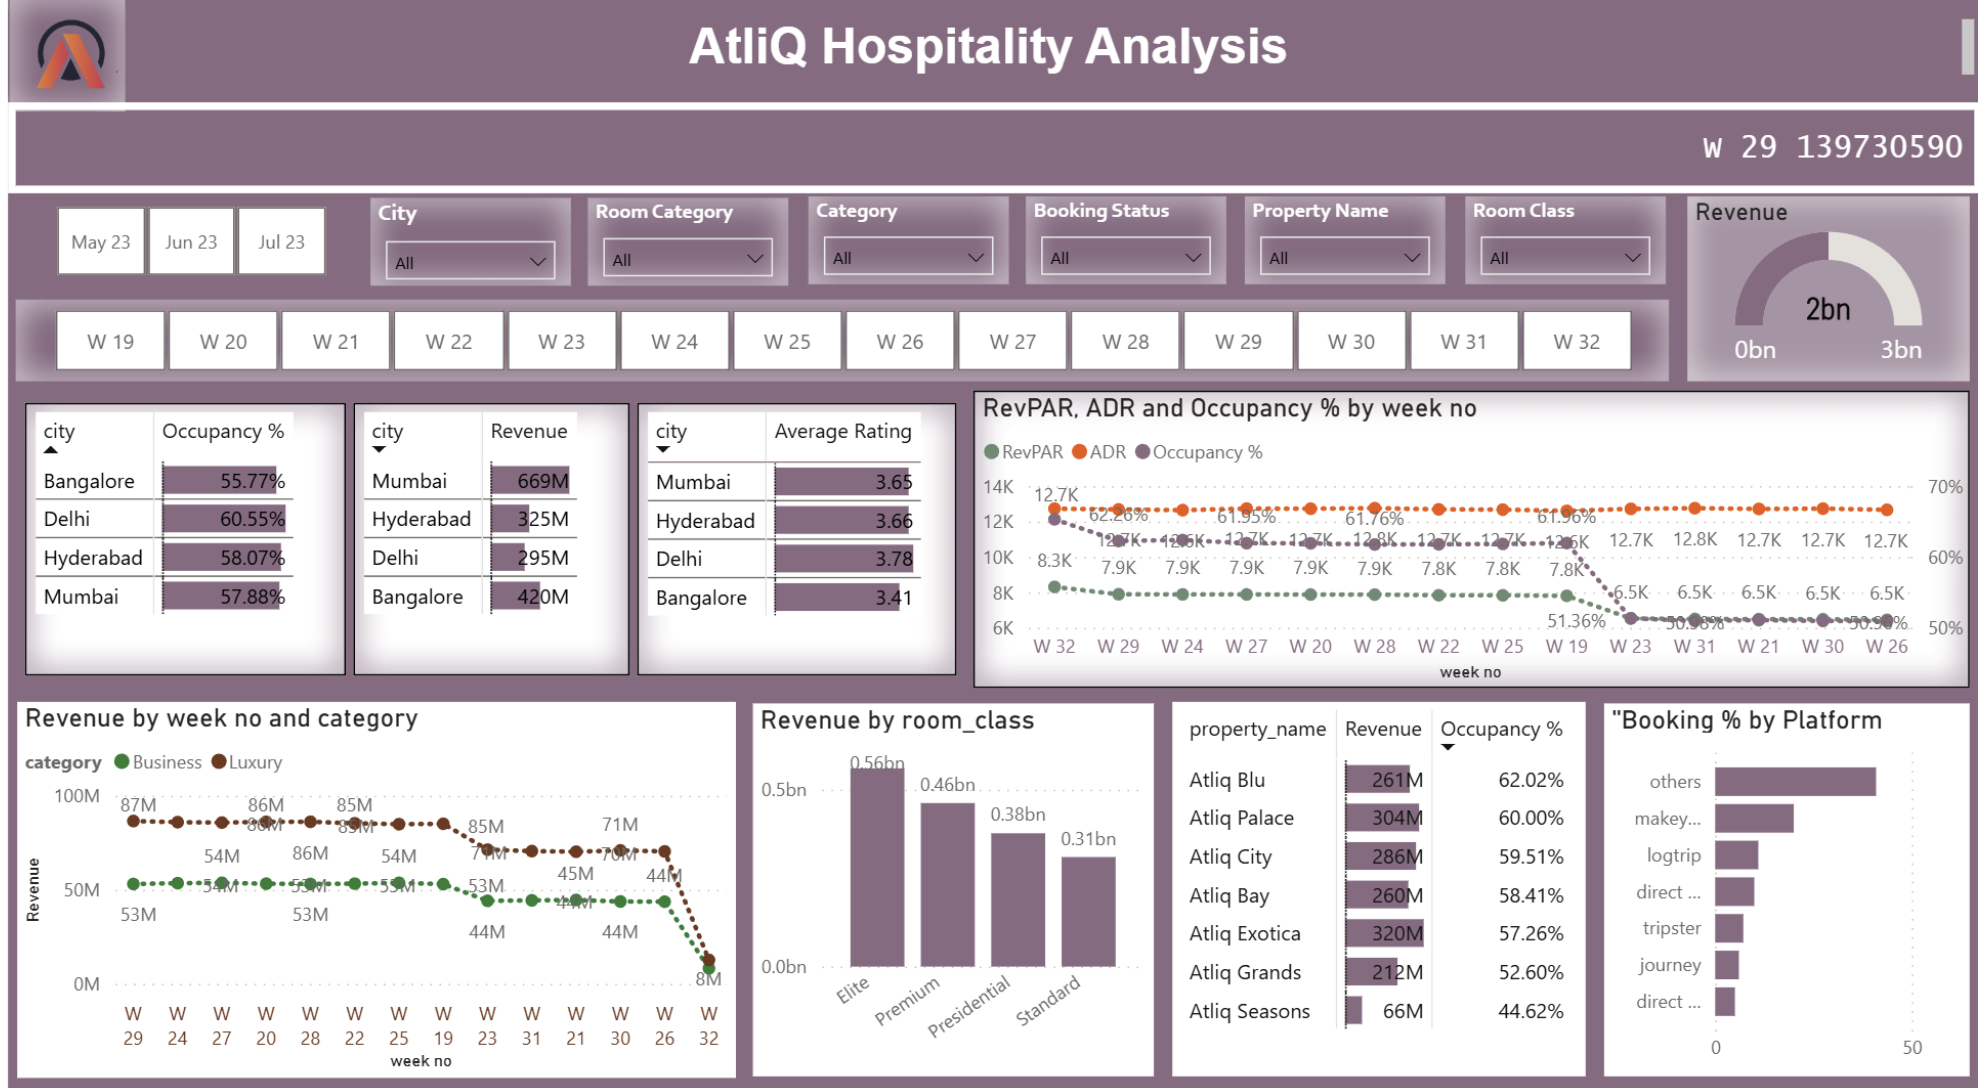

This screenshot's page, from the dashboard's own definition file:
{"tool":"powerbi","page":{"name":"ANALYSIS","canvas":[1280,720],"ordinal":1},"visuals":[{"type":"slicer","title":"Category","fields":{"Values":["dim_hotels.category"]},"box":[518.5,130.3,130,57],"z":0},{"type":"ScrollingTextVisual1448795304508","fields":{"Measure Absolute":["key_measure.Revenue"],"Measure Deviation":["key_measure.RevPAR"],"Category":["dim_date.week no"]},"box":[0,68.7,1279.6,59.1],"z":1000},{"type":"textbox","box":[0,9.8,1280,54],"z":2000},{"type":"clusteredBarChart","title":"\"Booking % by Platform","fields":{"Y":["key_measure.\"Booking % by Platform"],"Category":["fact_bookings.booking_platform"]},"box":[1035.3,459,237.1,242],"z":3000},{"type":"tableEx","fields":{"Values":["dim_hotels.property_name","key_measure.Revenue","key_measure.Occupancy %"]},"box":[755.3,457.8,267.7,243.3],"z":4000},{"type":"columnChart","fields":{"Category":["dim_rooms.room_class"],"Y":["key_measure.Revenue"]},"box":[482.7,459,260.4,242],"z":5000},{"type":"lineChart","fields":{"Category":["dim_date.week no"],"Y":["key_measure.RevPAR","key_measure.ADR"],"Y2":["key_measure.Occupancy %"]},"box":[625.9,255.7,646.4,193],"z":6000},{"type":"tableEx","fields":{"Values":["dim_hotels.city","key_measure.Average Rating"]},"box":[407.6,264.1,207.4,177.3],"z":7000},{"type":"tableEx","fields":{"Values":["dim_hotels.city","key_measure.Occupancy %"]},"box":[10.9,264.1,208.6,177.3],"z":8000},{"type":"tableEx","fields":{"Values":["dim_hotels.city","key_measure.Revenue"]},"box":[223.7,264.1,179.7,177.3],"z":9000},{"type":"slicer","fields":{"Values":["dim_date.mmm yy"]},"box":[6,130.3,224.3,57.9],"z":10000},{"type":"slicer","fields":{"Values":["dim_date.week no"]},"box":[4.8,196.6,1072.2,53.1],"z":11000},{"type":"slicer","title":"Room Category","fields":{"Values":["fact_aggregated_bookings.room_category"]},"box":[376.3,130.8,130,57.5],"z":12000},{"type":"slicer","title":"Booking Status","fields":{"Values":["fact_bookings.booking_status"]},"box":[660.2,130.3,130,57],"z":13000},{"type":"slicer","title":"Property Name","fields":{"Values":["dim_hotels.property_name"]},"box":[802.4,130.3,130,57],"z":14000},{"type":"slicer","title":"Room Class","fields":{"Values":["dim_rooms.room_class"]},"box":[944.6,130.3,130,57],"z":15000},{"type":"slicer","title":"City","fields":{"Values":["dim_hotels.city"]},"box":[234.7,130.8,130,57],"z":16000},{"type":"gauge","fields":{"Y":["key_measure.Revenue"]},"box":[1089,130.3,183.3,119.4],"z":17000},{"type":"lineChart","fields":{"Y":["key_measure.Revenue"],"Category":["dim_date.week no"],"Series":["dim_hotels.category"]},"box":[6,458.3,465.5,243.6],"z":18000},{"type":"image","box":[1,0,75,75],"z":19000}]}

Visuals, with their boxes in screenshot pixels (x1, y1, x2, y2), scaled from the page's 1280x720 canvas onto the 1978x1088 screenshot:
"Category" slicer: <region>801, 197, 1002, 283</region>
ScrollingTextVisual1448795304508 - key_measure.Revenue x key_measure.RevPAR: <region>0, 104, 1977, 193</region>
textbox: <region>0, 15, 1977, 96</region>
""Booking % by Platform" clusteredBarChart: <region>1600, 694, 1966, 1059</region>
tableEx - dim_hotels.property_name x key_measure.Revenue: <region>1167, 692, 1581, 1059</region>
columnChart - dim_rooms.room_class x key_measure.Revenue: <region>746, 694, 1148, 1059</region>
lineChart - dim_date.week no x key_measure.RevPAR: <region>967, 386, 1966, 678</region>
tableEx - dim_hotels.city x key_measure.Average Rating: <region>630, 399, 950, 667</region>
tableEx - dim_hotels.city x key_measure.Occupancy %: <region>17, 399, 339, 667</region>
tableEx - dim_hotels.city x key_measure.Revenue: <region>346, 399, 623, 667</region>
slicer - dim_date.mmm yy: <region>9, 197, 356, 284</region>
slicer - dim_date.week no: <region>7, 297, 1664, 377</region>
"Room Category" slicer: <region>582, 198, 782, 285</region>
"Booking Status" slicer: <region>1020, 197, 1221, 283</region>
"Property Name" slicer: <region>1240, 197, 1441, 283</region>
"Room Class" slicer: <region>1460, 197, 1661, 283</region>
"City" slicer: <region>363, 198, 564, 284</region>
gauge - key_measure.Revenue: <region>1683, 197, 1966, 377</region>
lineChart - key_measure.Revenue x dim_date.week no: <region>9, 693, 729, 1061</region>
image: <region>2, 0, 117, 113</region>
